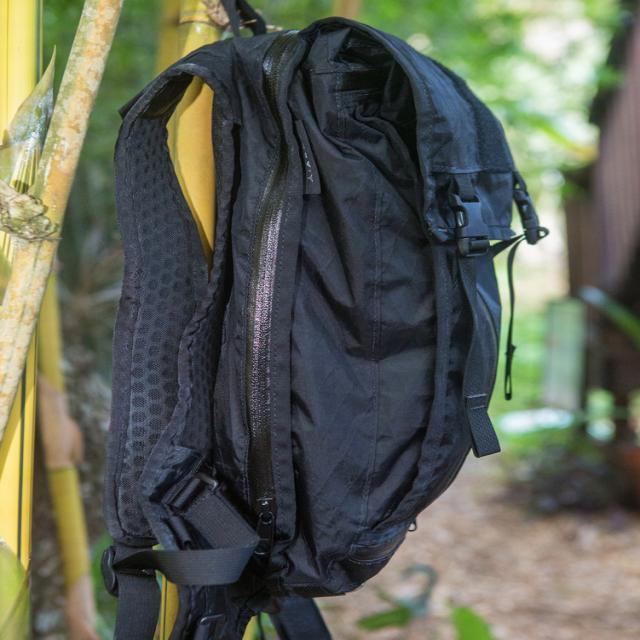backpack: (121, 14, 537, 605)
